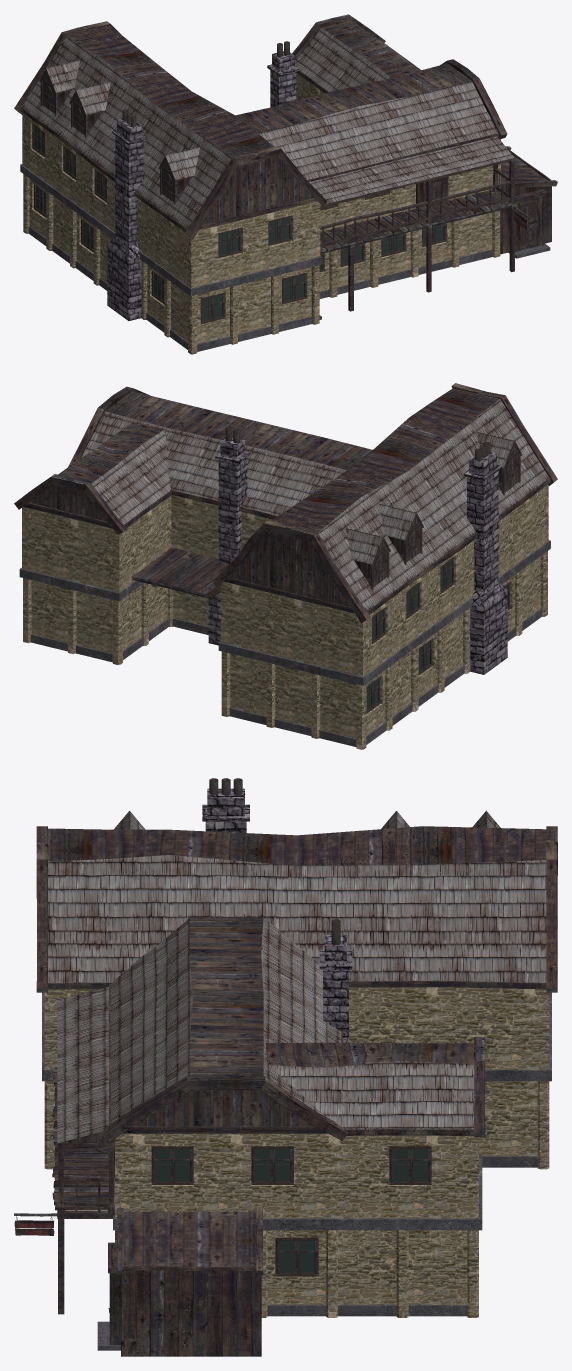
3 views of the same model, one above another, from view 1: azimuth 30°, elevation 25°; view 2: azimuth 150°, elevation 25°; view 3: azimuth 270°, elevation 25° (orthographic). The views are drawn at different scales.
Visible parts, largest first — view 1: Roof, Level1, Level2, RoofWood, Balcony, Chimney, RoofFrame, Level3, WindowFrames, Foundation, Level2Frame, Level3Frames (+6 smaller); view 2: Level2, Roof, Level1, RoofWood, Chimney, Level3, RoofFrame, Level2Frame, Foundation, BackBalcony, Level3Frames, WindowFrames; view 3: Roof, RoofWood, Level2, Level1, RoofFrame, Entrance, Balcony, Level3, Level2Frame, Chimney, WindowFrames, Foundation (+8 smaller).
Boxes of the visible parts, <box> form: Roof: <box>22,28,514,228</box>; Level1: <box>23,174,500,354</box>; Level2: <box>22,73,500,288</box>; RoofWood: <box>67,20,547,181</box>; Balcony: <box>320,157,515,311</box>; Chimney: <box>107,51,299,320</box>; RoofFrame: <box>14,14,557,239</box>; Level3: <box>42,73,313,224</box>; WindowFrames: <box>32,86,446,324</box>; Foundation: <box>28,226,492,351</box>; Level2Frame: <box>20,164,501,296</box>; Level3Frames: <box>40,78,317,230</box>; Level2: <box>22,484,548,676</box>; Roof: <box>58,399,548,610</box>; Level1: <box>23,551,547,749</box>; RoofWood: <box>60,388,499,532</box>; Chimney: <box>208,437,507,674</box>; Level3: <box>29,446,518,606</box>; RoofFrame: <box>14,383,557,623</box>; Level2Frame: <box>19,540,550,685</box>; Foundation: <box>31,608,541,746</box>; BackBalcony: <box>132,547,228,600</box>; Level3Frames: <box>23,452,520,613</box>; WindowFrames: <box>366,460,517,713</box>; Roof: <box>48,811,546,1143</box>; RoofWood: <box>48,826,546,1266</box>; Level2: <box>44,987,549,1218</box>; Level1: <box>44,1081,549,1317</box>; RoofFrame: <box>36,810,557,1271</box>; Entrance: <box>121,1270,261,1356</box>; Balcony: <box>52,989,114,1314</box>; Level3: <box>133,1090,314,1126</box>; Level2Frame: <box>42,992,551,1230</box>; Chimney: <box>202,788,352,1042</box>; WindowFrames: <box>151,1146,431,1276</box>; Foundation: <box>267,1156,537,1316</box>.
Size of the model in its own units: 17.8 by 8.32 by 13.91.
11 materials, 9 textured.
